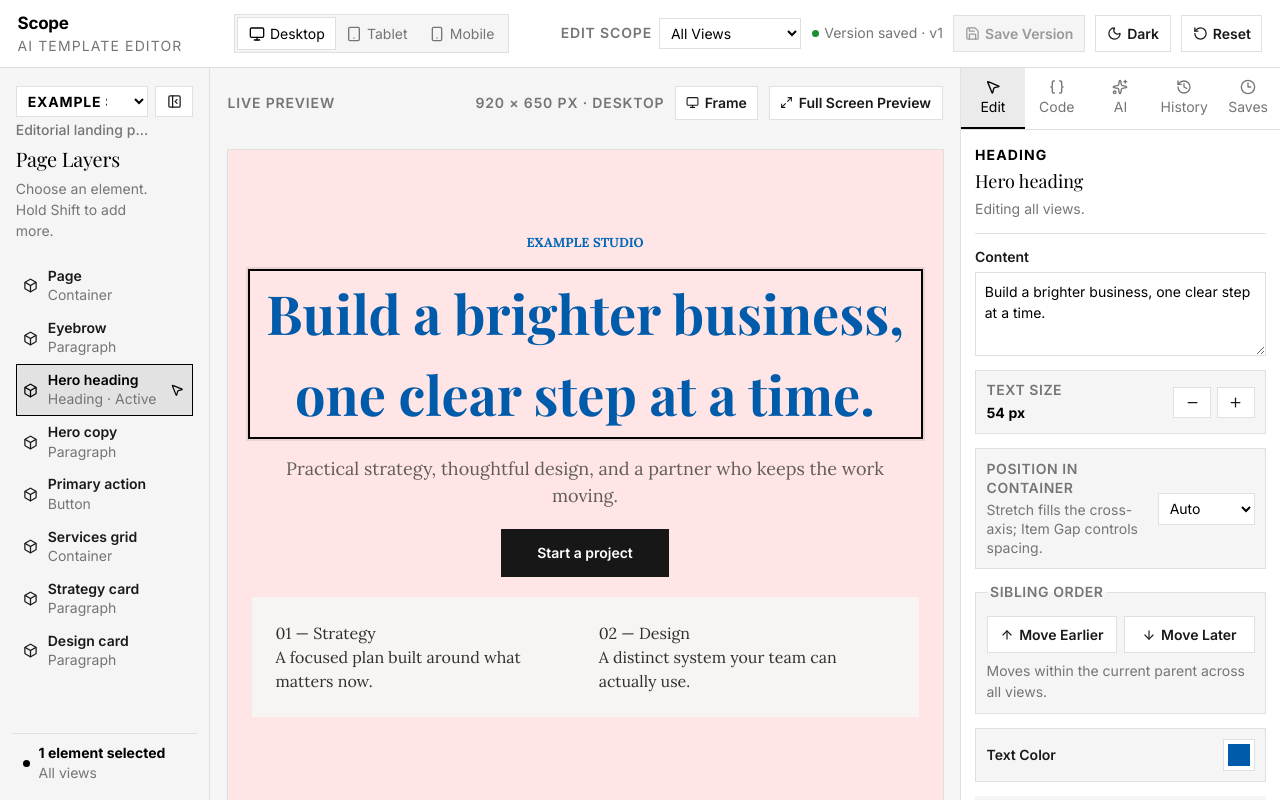
Test case: groups edits into a saved global version and routes to scoped recovery
The image size is (1280, 800).
Click the button named "Increase text size".
click(1236, 402)  # box [1216,386,1254,418]
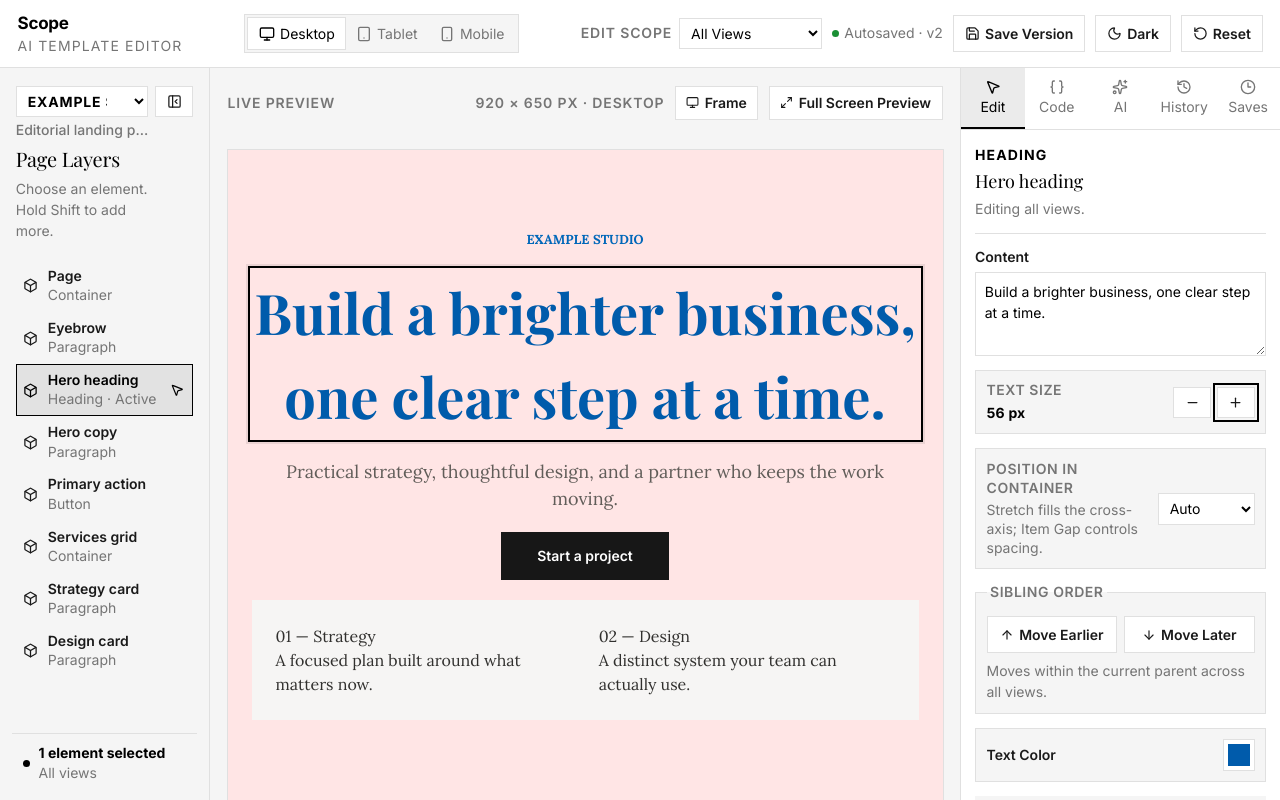
Expected: the text "Autosaved · v2" is shown, [832,24,943,43]
Click the tab "Saves".
click(1248, 99)  # box [1216,68,1279,129]
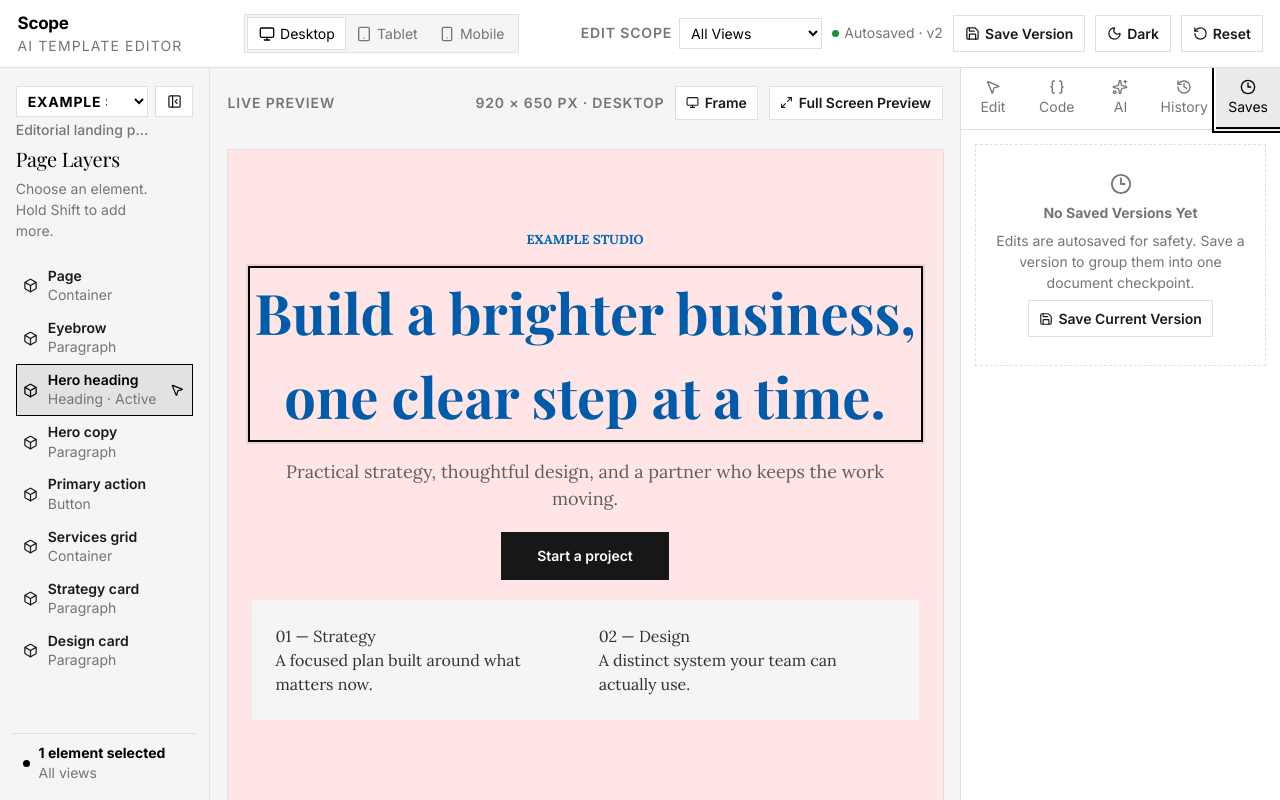
Expected: the text "No Saved Versions Yet" is shown, [1043,204,1198,221]
Click the button "Save Current Version".
click(1120, 319)  # box [1028,300,1213,337]
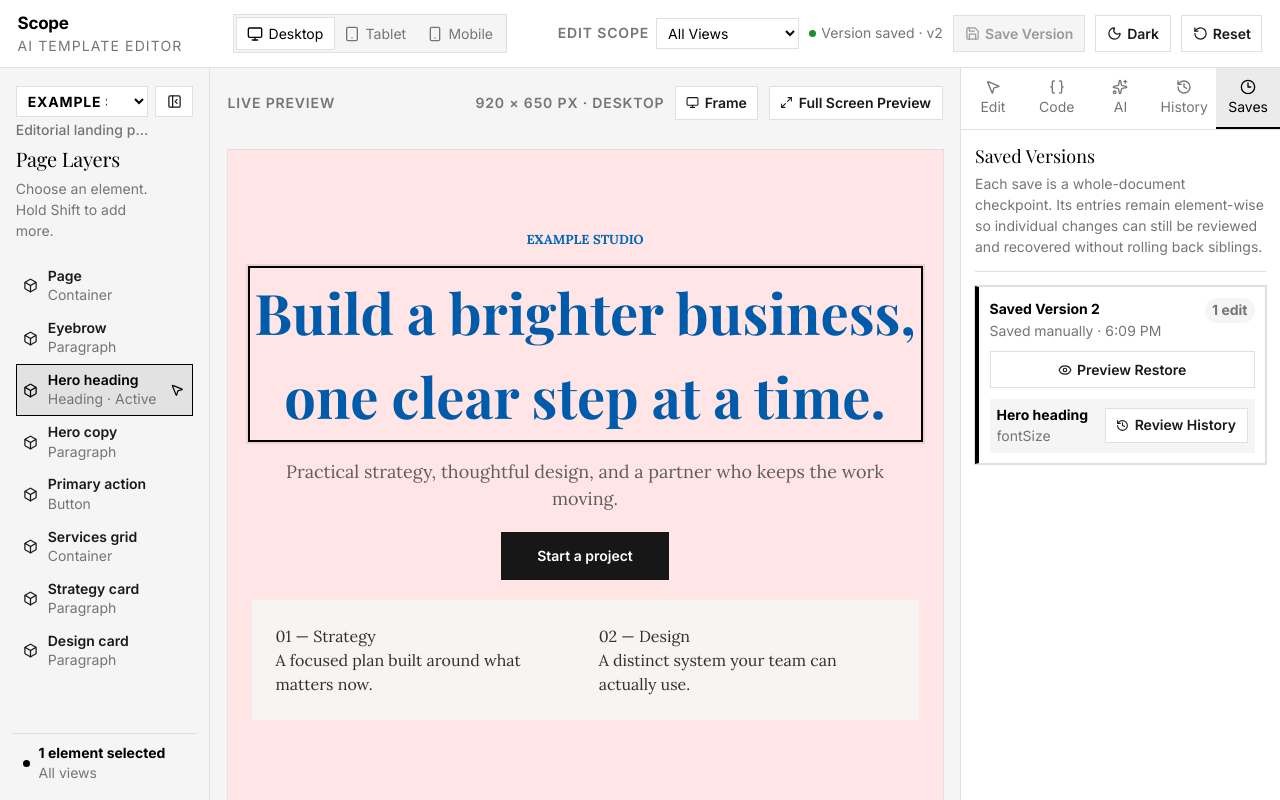
Expected: the heading "Saved Versions" is shown, [975,144,1095,168]
Expected: the text "Saved Version 2" is shown, [990,300,1100,317]
Expected: the text "Version saved · v2" is shown, [809,24,943,43]
Click the button "Preview Restore".
click(1122, 370)  # box [990,352,1254,388]
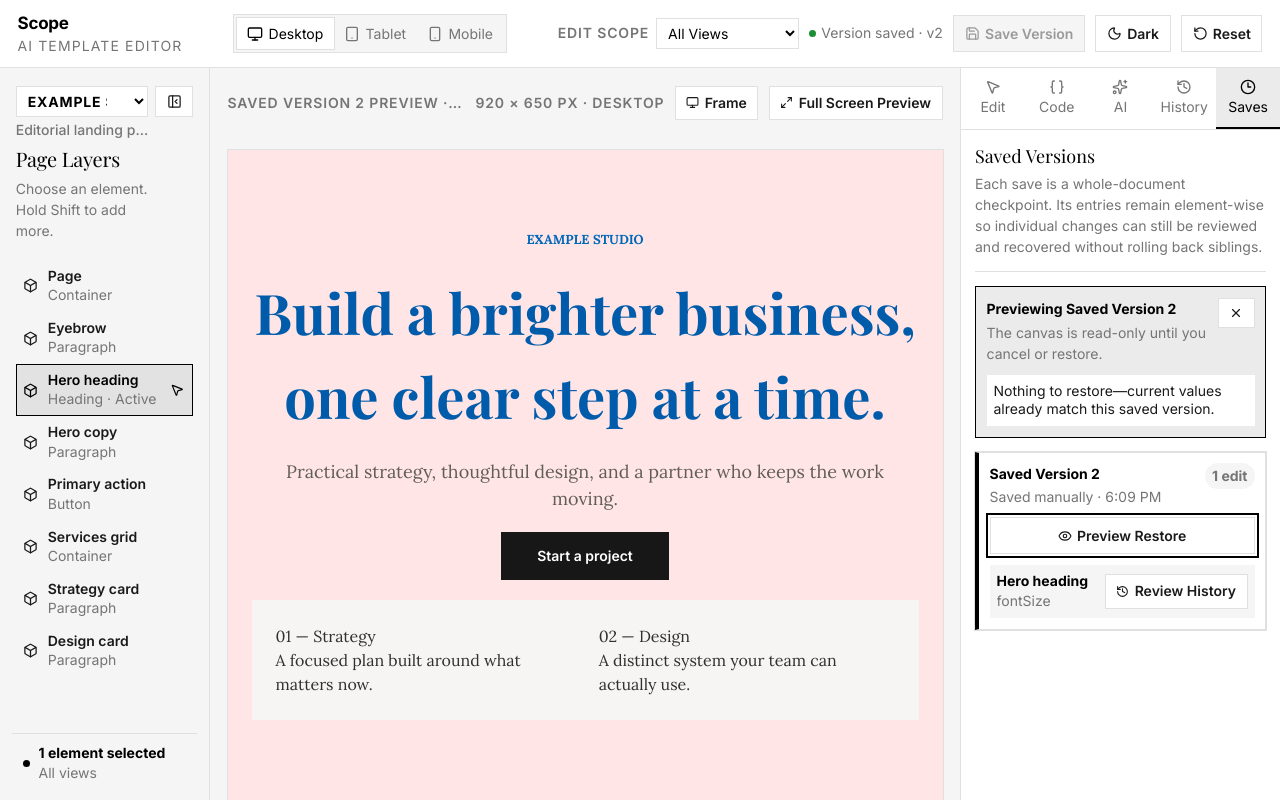
Expected: the button "Restore as New Saved Version" is not shown
Expected: the text "Version saved · v2" is shown, [809,24,943,43]
Expected: the text "Nothing to restore—current values already match this saved version." is shown, [994,382,1222,418]
Click the button named "Cancel saved version preview".
click(1236, 313)  # box [1218,298,1254,328]
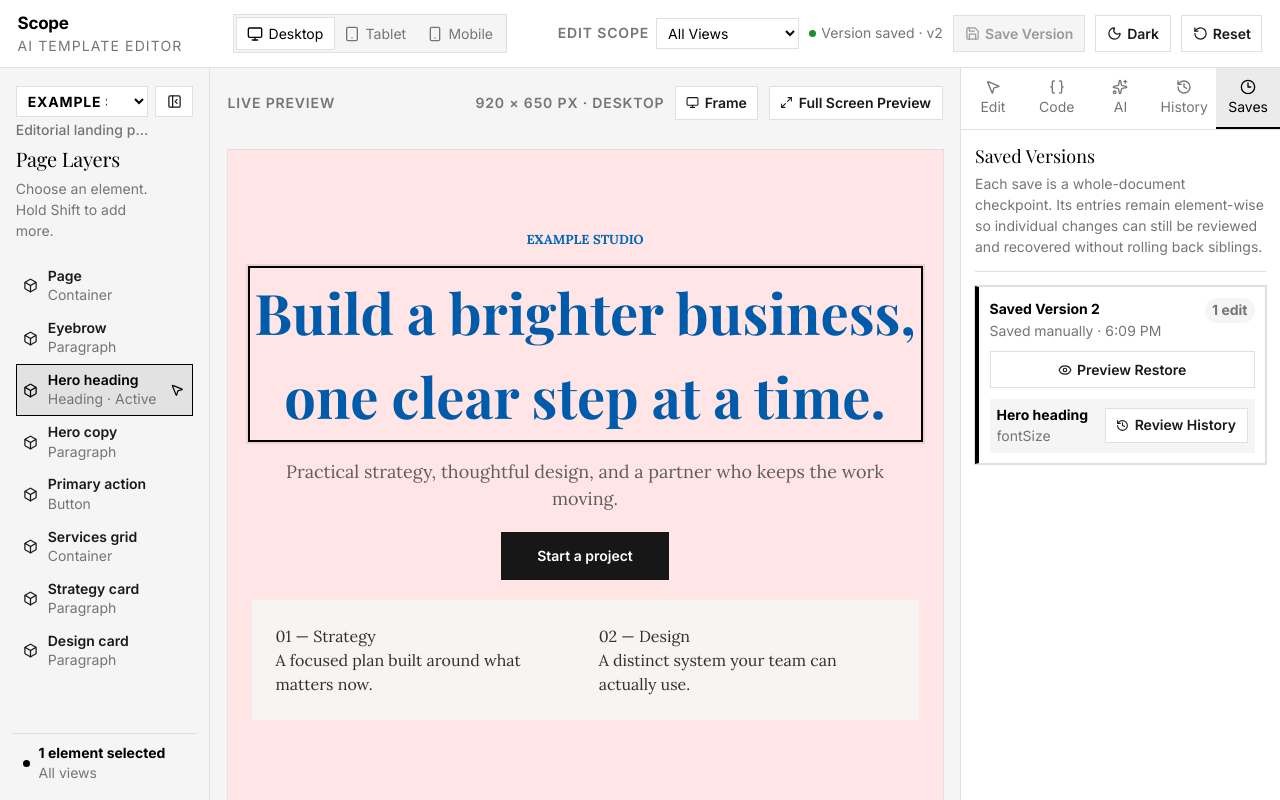
Click the button "Review History".
click(1176, 426)  # box [1105,408,1248,443]
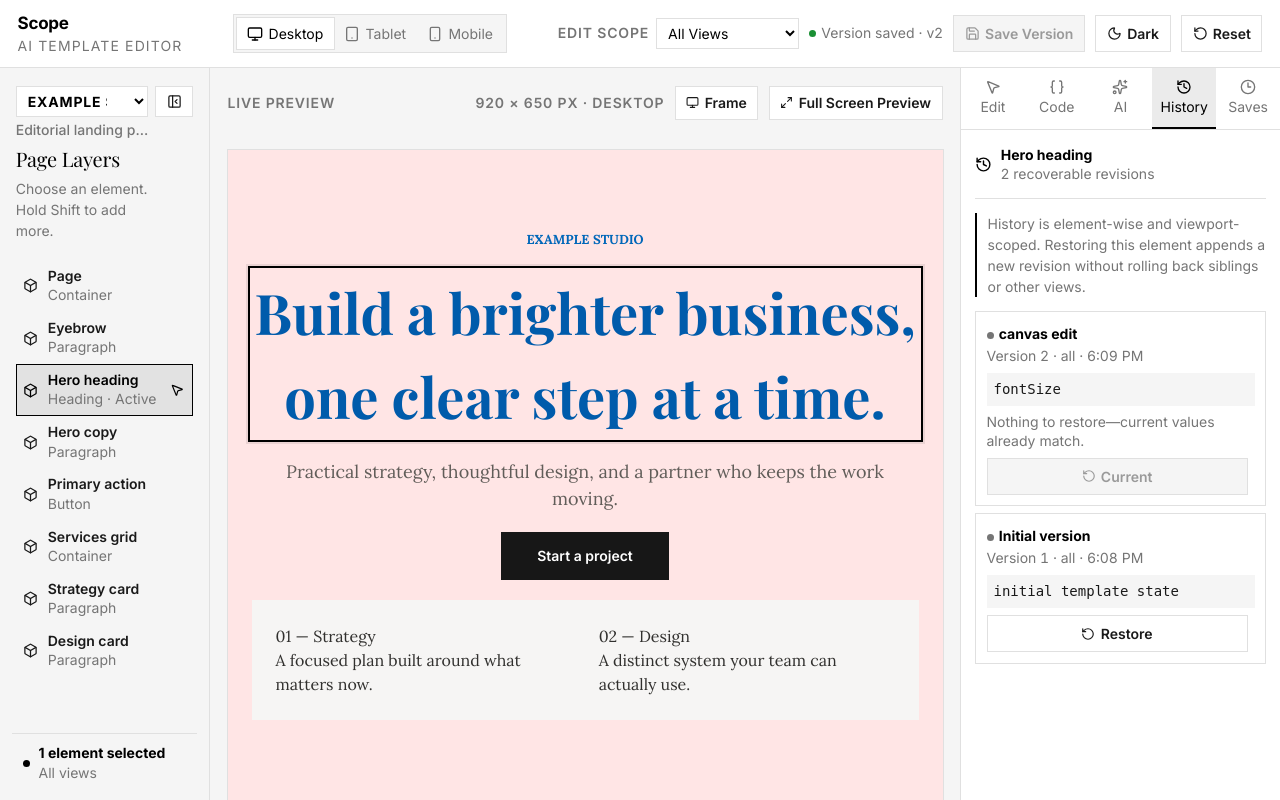
Expected: the text "recoverable revision" is shown, [1009,165,1147,182]
